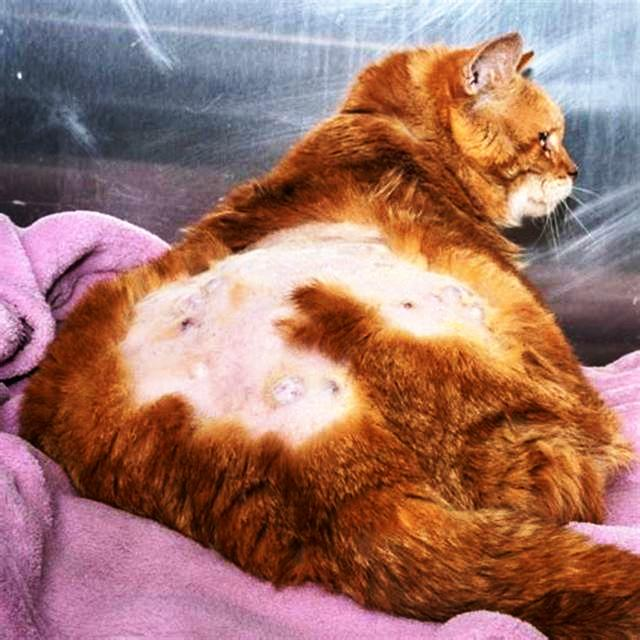hairloss: (144, 216, 471, 408)
